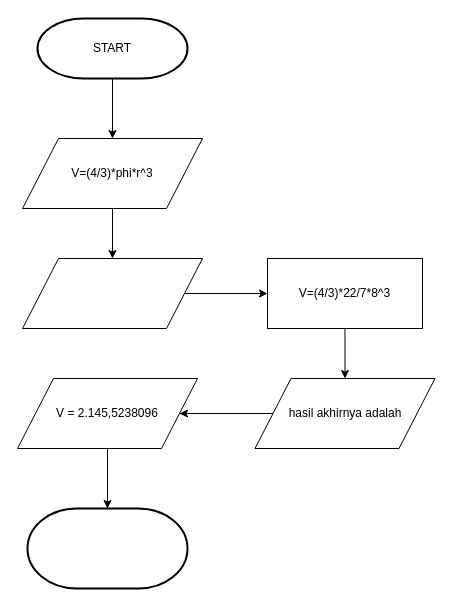
The diagram is 453 pixels wide and 606 high, and some of its shapes have lost their labels. The centre of each missing label's shape, as x and y in pixels:
"FINISH" belongs at point 107,548.
"input r = 8" belongs at point 112,293.
